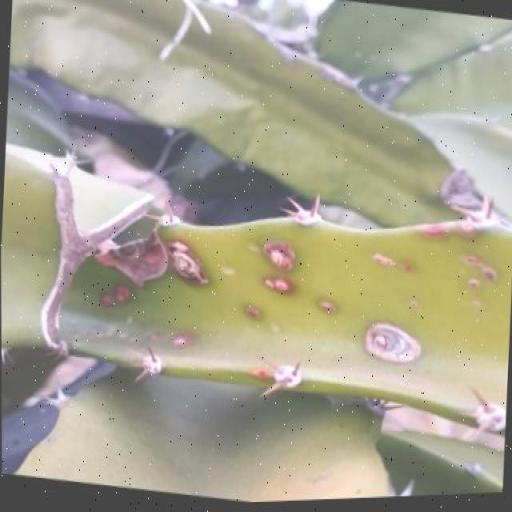stemcanker: (265, 20, 283, 70), (255, 205, 269, 258), (244, 128, 258, 165), (240, 257, 253, 293)
